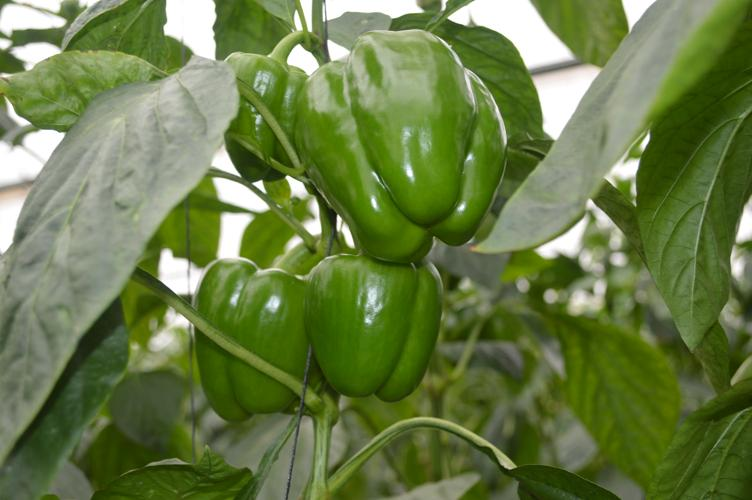BellPepper: (294, 26, 516, 258), (186, 248, 335, 428), (296, 244, 455, 407), (203, 40, 315, 194)
